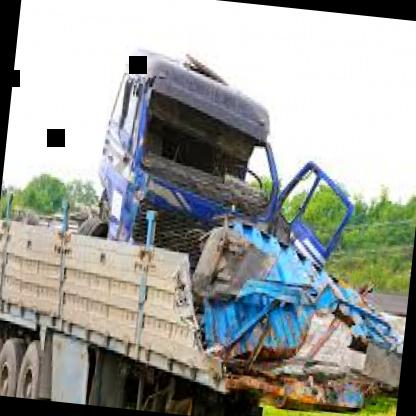accident: (68, 22, 383, 402)
